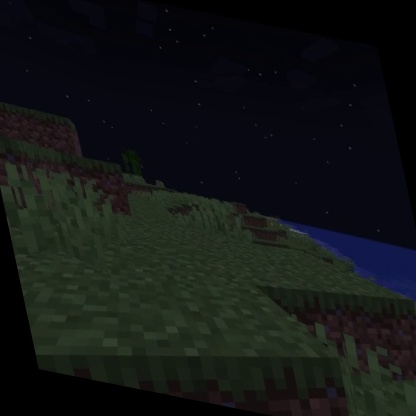spider: (106, 179, 295, 349)
